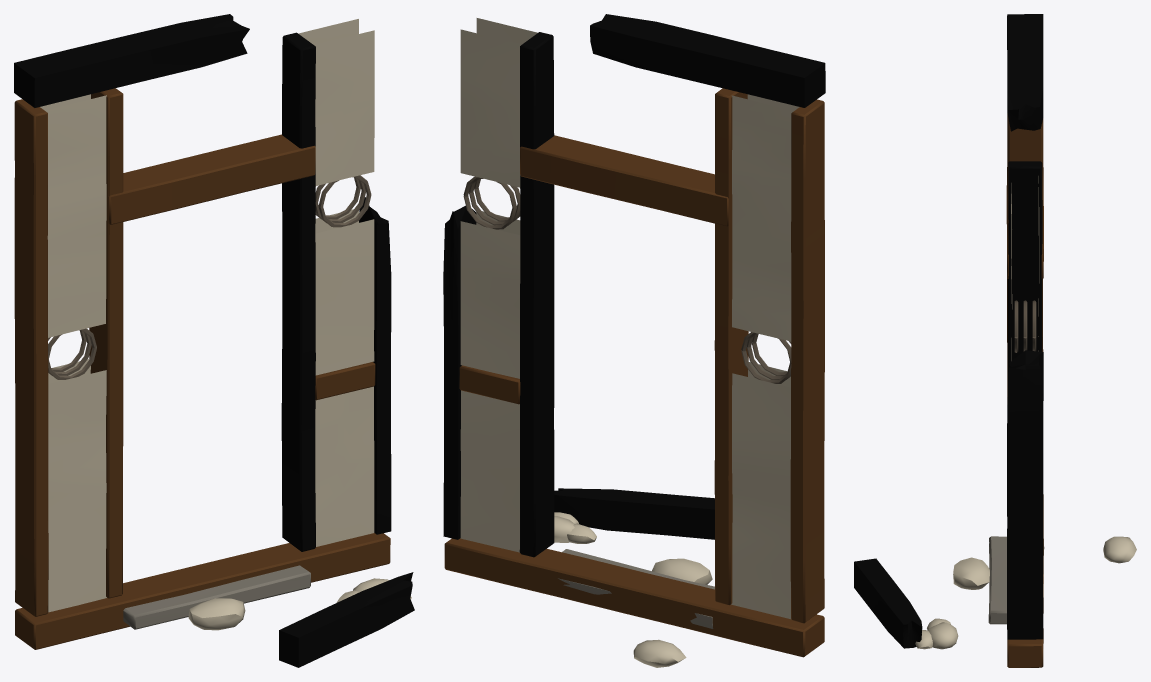
File: wand_tuer_kaputt.glb
3 renders of one model, left to right at view 1: azimuth 30°, elevation 25°; view 2: azimuth 150°, elevation 25°; view 3: azimuth 270°, elevation 25°, orthographic. The views are drawn at different scales.
Visible parts, largest first — view 1: wand_tuer_kaputt; view 2: wand_tuer_kaputt; view 3: wand_tuer_kaputt.
Part boxes in pixels (x1,y1,x2,y2): wand_tuer_kaputt: [14, 14, 414, 667]; wand_tuer_kaputt: [443, 14, 825, 667]; wand_tuer_kaputt: [854, 14, 1136, 667].
Size of the model in its own units: 2 by 3.08 by 1.57.
